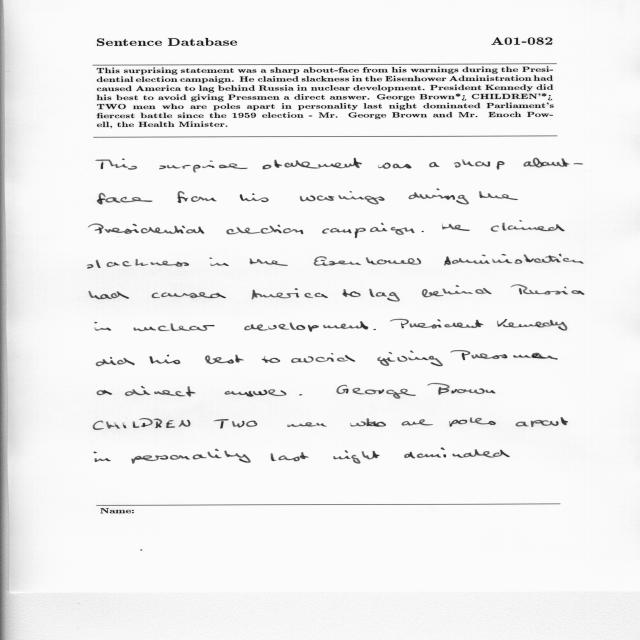word: (131, 449, 251, 464), (444, 254, 584, 266), (322, 223, 415, 238), (245, 321, 369, 332), (89, 223, 205, 234), (93, 418, 191, 430), (404, 448, 510, 459), (336, 385, 416, 399), (300, 191, 385, 204), (263, 158, 362, 169), (314, 256, 421, 266), (451, 351, 558, 361), (159, 161, 248, 173), (87, 259, 189, 269), (377, 351, 443, 366), (408, 189, 469, 205), (391, 319, 484, 329), (251, 288, 328, 299), (422, 285, 492, 297), (497, 319, 567, 331), (427, 383, 496, 395), (491, 221, 565, 232), (511, 284, 584, 295), (227, 225, 304, 235), (125, 386, 195, 397), (333, 450, 380, 464), (134, 323, 215, 331), (291, 353, 355, 363), (98, 193, 153, 204), (454, 159, 505, 170), (524, 158, 583, 167), (516, 417, 568, 427), (177, 191, 217, 203), (449, 417, 496, 427), (96, 159, 137, 170), (151, 292, 226, 298), (225, 390, 287, 397), (214, 419, 257, 429), (369, 289, 400, 302), (479, 191, 518, 200), (205, 355, 244, 364), (97, 357, 135, 366), (271, 452, 309, 461), (350, 418, 386, 427), (89, 291, 129, 299), (250, 258, 288, 266), (150, 355, 181, 364), (240, 194, 268, 203), (378, 162, 411, 169), (402, 419, 433, 426), (287, 422, 327, 427), (442, 224, 470, 231), (209, 257, 229, 266), (94, 452, 111, 462), (342, 289, 361, 297), (95, 322, 111, 331), (262, 356, 280, 363), (97, 390, 112, 395), (429, 162, 440, 167), (299, 394, 302, 396), (373, 329, 376, 330), (422, 231, 424, 232)
